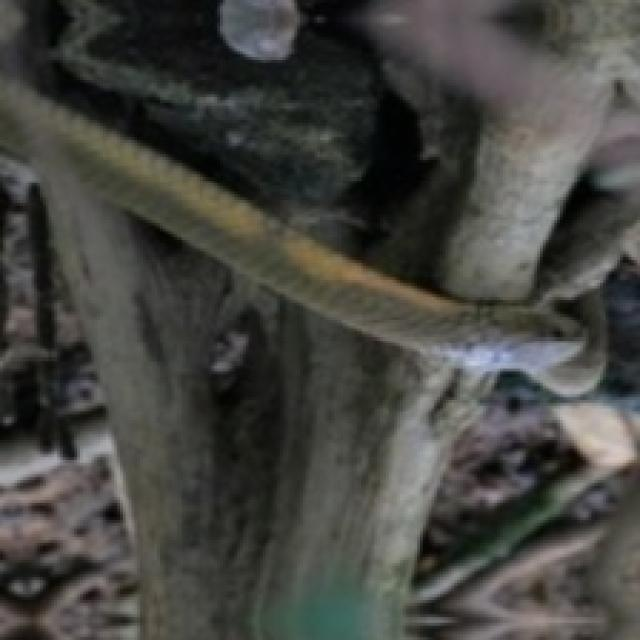king cobra: (0, 0, 637, 637), (0, 0, 637, 369)
